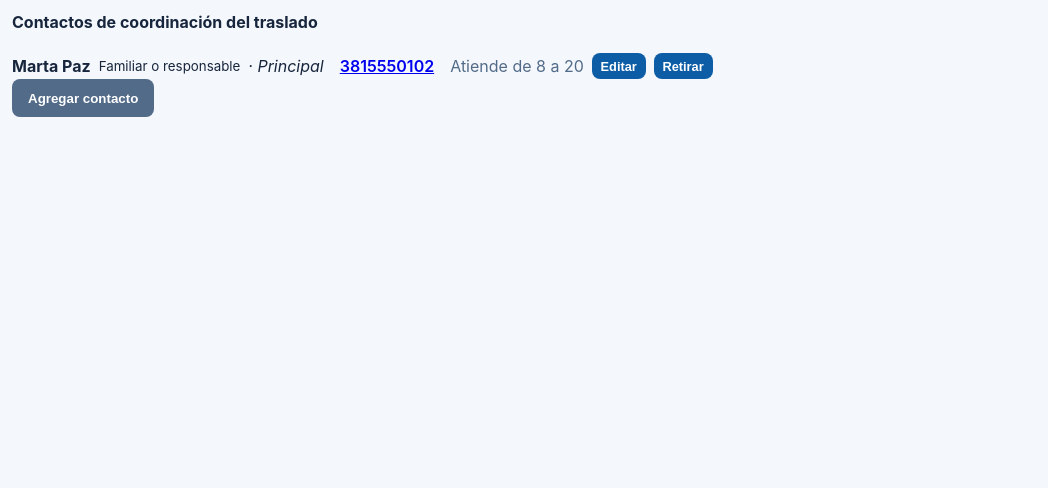
Test case: el rechazo del servidor sigue visible después de releer el estado vigente
Click the button "Agregar contacto" at (83, 98), box [12, 80, 154, 117]
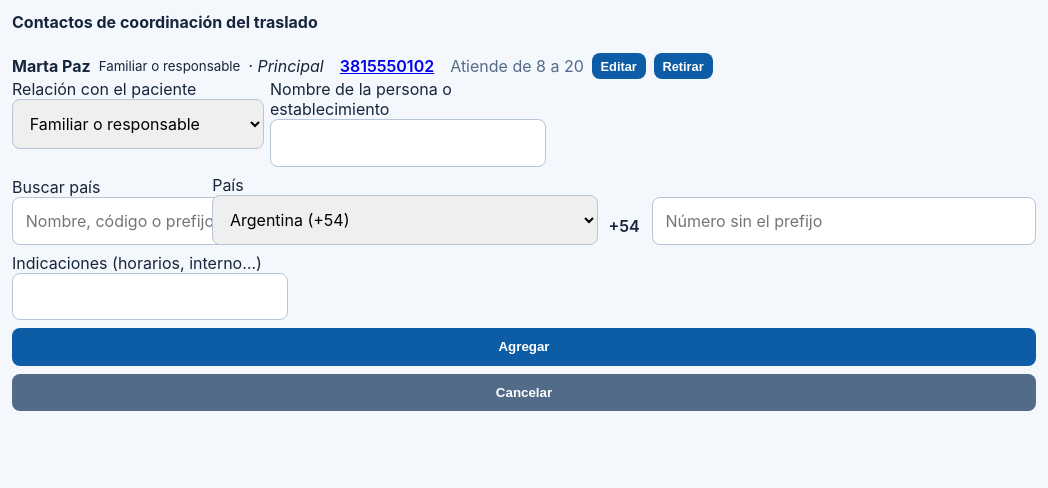
Type "Otro" into the field labelled "Nombre de la persona o establecimiento" at (408, 143), box [270, 120, 546, 167]
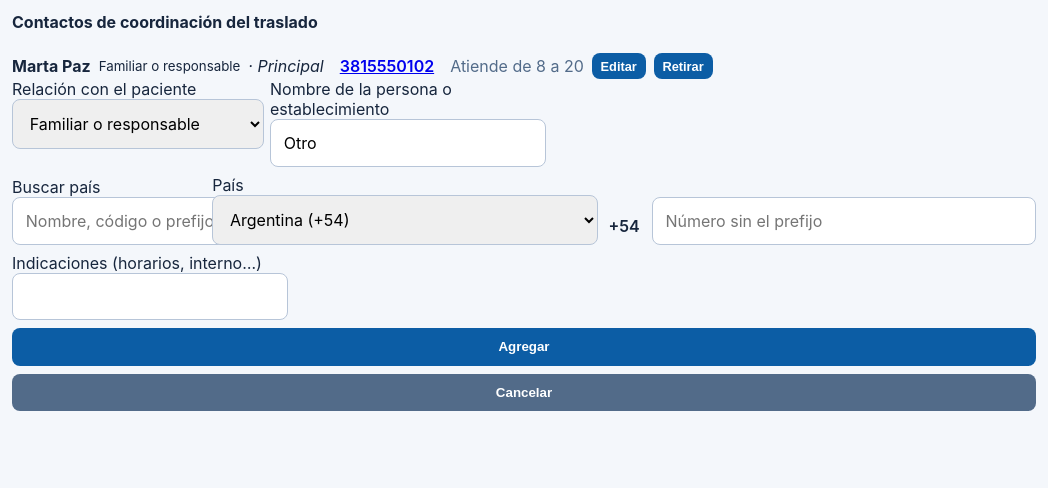
Type "3815550102" into the field named "Teléfono" at (844, 221), box [652, 197, 1036, 245]
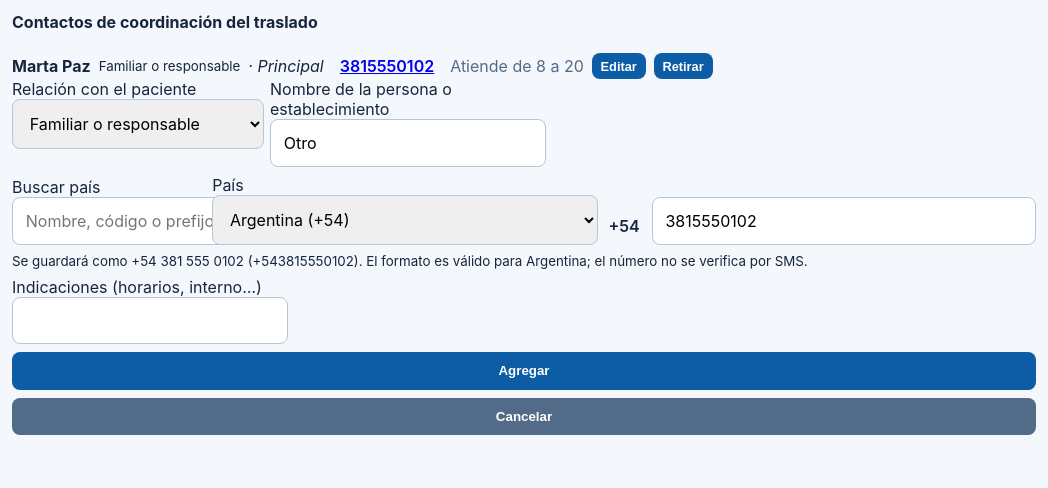
Click the button "Agregar" at (524, 371), box [12, 352, 1036, 390]
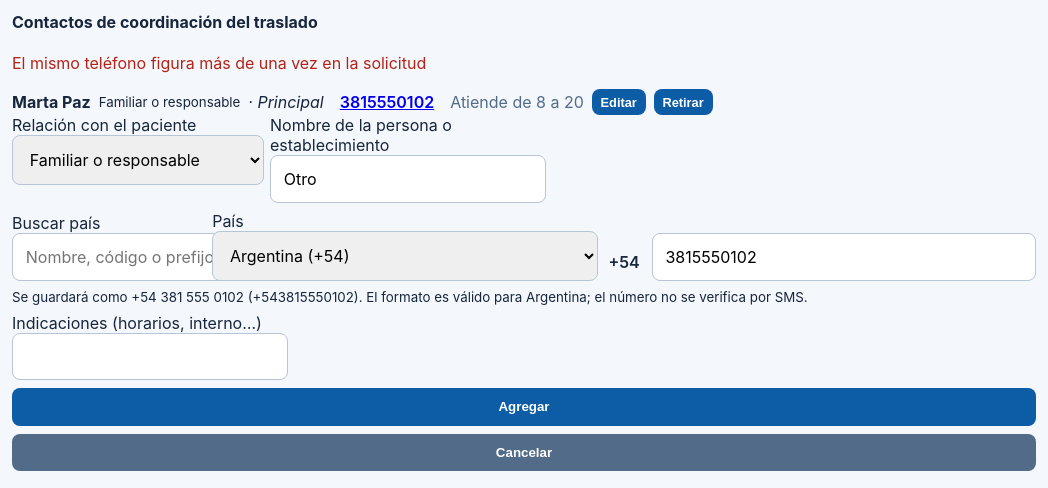
Expected: the message shows "mismo teléfono", [12, 53, 426, 73]
